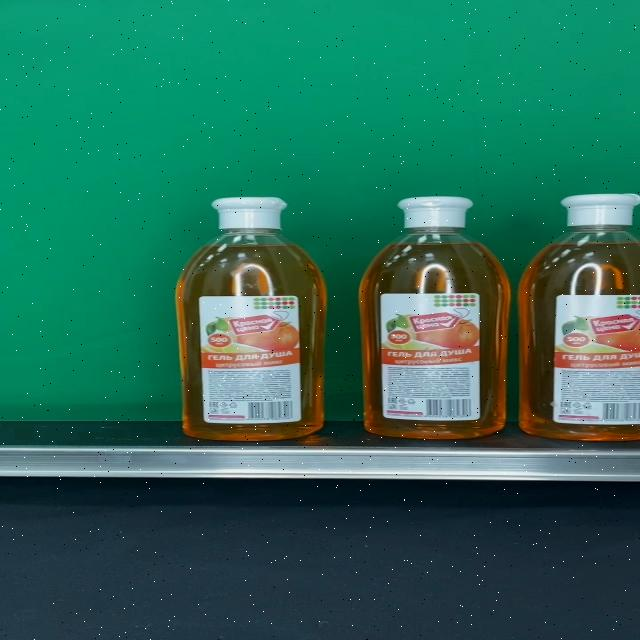Bottle: (358, 197, 512, 439), (176, 196, 327, 441), (518, 193, 640, 441)
Cap: (561, 193, 640, 227), (211, 197, 287, 231), (397, 197, 475, 230)
